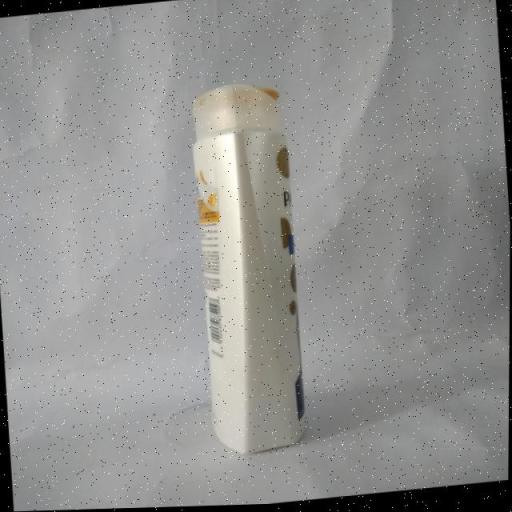plastic: (176, 70, 341, 474)
